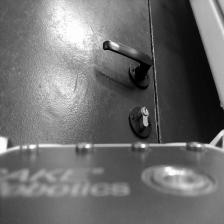Door Handle: (102, 39, 154, 92)
Lock: (129, 104, 153, 140)
